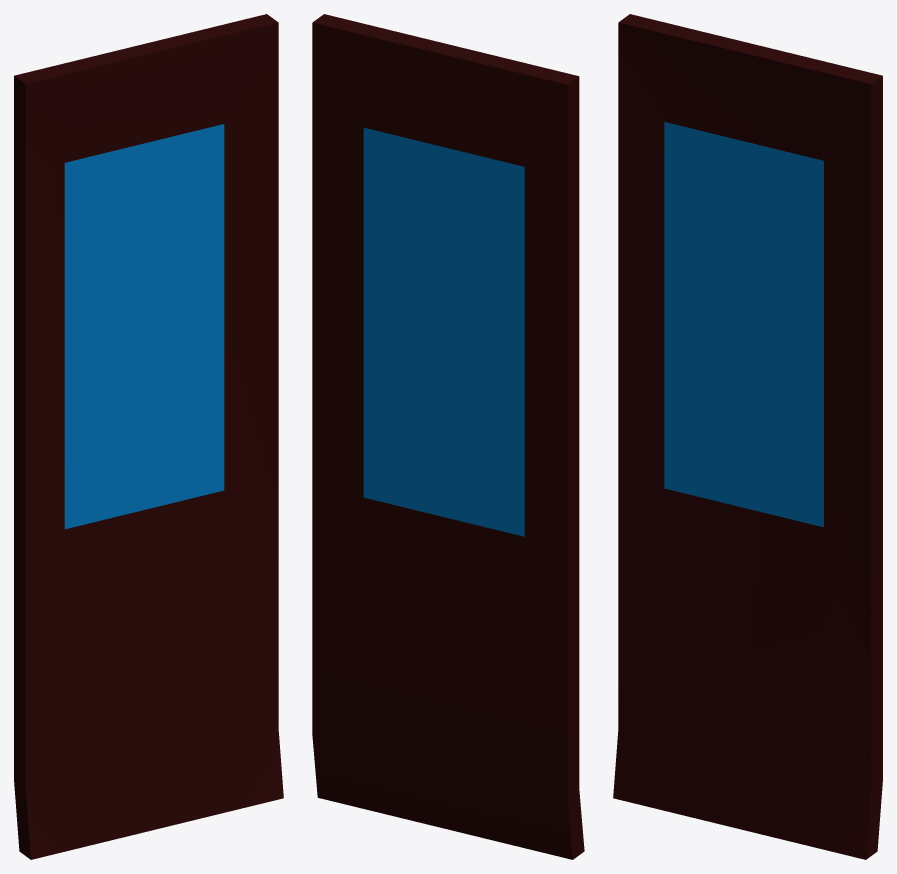
The model's file is Door.obj.
3 views of the same model, side by side, from view 1: azimuth 30°, elevation 25°; view 2: azimuth 150°, elevation 25°; view 3: azimuth 330°, elevation 25° (orthographic).
Parts seen in each view (by area): view 1: Dooor_Cube.002; view 2: Dooor_Cube.002; view 3: Dooor_Cube.002.
Boxes of the visible parts, <box> form: Dooor_Cube.002: <box>14,14,283,859</box>; Dooor_Cube.002: <box>312,14,584,859</box>; Dooor_Cube.002: <box>613,14,882,859</box>.
Bounding box in the file's own units: 0.7137 × 2.08 × 0.0827.
